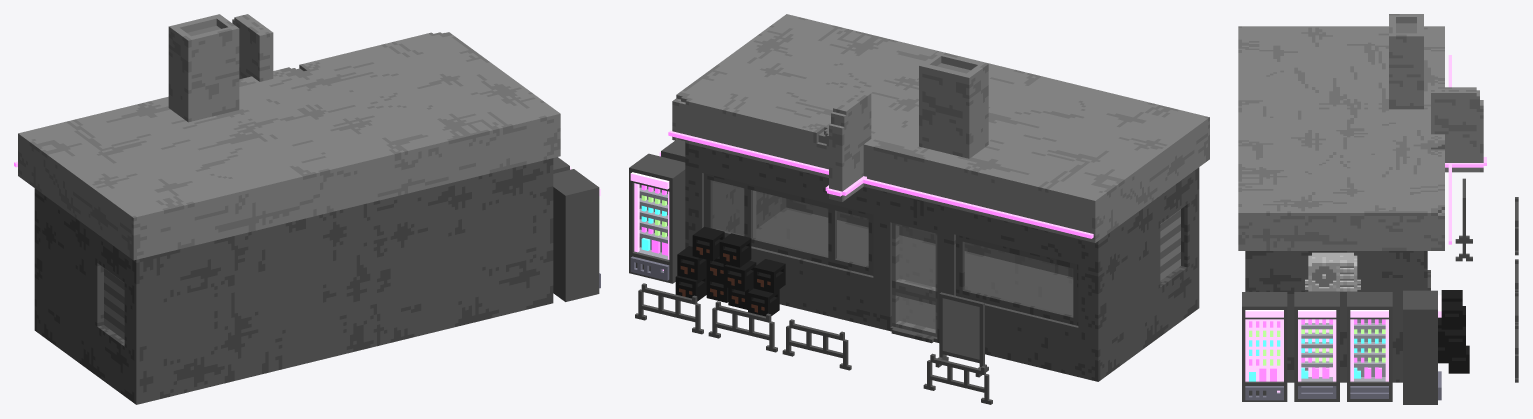
File: unt3itled.glb
The picture shows the model from 3 angles, left to right: view 1: azimuth 30°, elevation 25°; view 2: azimuth 150°, elevation 25°; view 3: azimuth 270°, elevation 25°; orthographic projection. The views are drawn at different scales.
Visible parts, largest first — view 1: ShopBuilding_1; view 2: ShopBuilding_1; view 3: ShopBuilding_1.
Boxes of the visible parts, left/top/right/bottom form: ShopBuilding_1: left=14, top=14, right=600, bottom=404; ShopBuilding_1: left=629, top=14, right=1209, bottom=404; ShopBuilding_1: left=1238, top=14, right=1518, bottom=404.
Bounding box in the file's own units: 14 × 7.7 × 8.
Materials: 2 (2 with a texture image).
